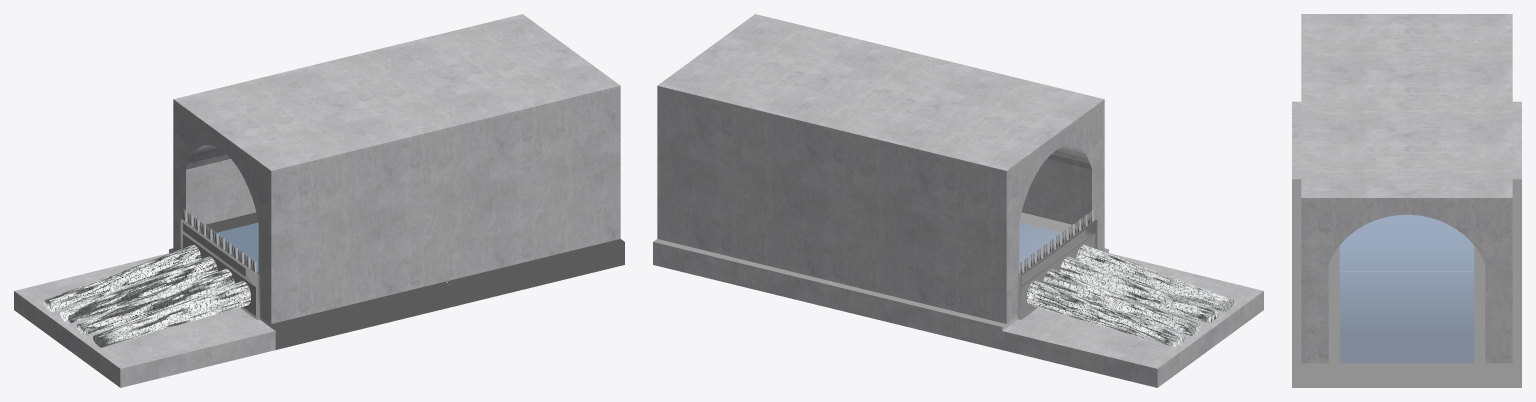
The model's file is malla_captacio.glb.
3 renders of one model, left to right at view 1: azimuth 30°, elevation 25°; view 2: azimuth 150°, elevation 25°; view 3: azimuth 270°, elevation 25°, orthographic. The views are drawn at different scales.
Visible parts, largest first — view 1: T_nel_formig____T_nel_formig__1108559__3D_1, Reixa___Reixa_1110386__3D_1, Llosa___Llosa_1116679__3D_1, Llosa_t_nel___Llosa_t_nel_1108943__3D_1, Aigua___Aigua_1112827__3D_1; view 2: T_nel_formig____T_nel_formig__1108559__3D_1, Reixa___Reixa_1110386__3D_1, Llosa___Llosa_1116679__3D_1, Llosa_t_nel___Llosa_t_nel_1108943__3D_1, Aigua___Aigua_1112827__3D_1; view 3: T_nel_formig____T_nel_formig__1108559__3D_1, Llosa_t_nel___Llosa_t_nel_1108943__3D_1, Aigua___Aigua_1112827__3D_1, Llosa___Llosa_1116679__3D_1.
Part boxes in pixels (x1=…): T_nel_formig____T_nel_formig__1108559__3D_1: x1=173, y1=14, x2=620, y2=323; Reixa___Reixa_1110386__3D_1: x1=44, y1=209, x2=260, y2=347; Llosa___Llosa_1116679__3D_1: x1=14, y1=253, x2=275, y2=387; Llosa_t_nel___Llosa_t_nel_1108943__3D_1: x1=169, y1=212, x2=624, y2=349; Aigua___Aigua_1112827__3D_1: x1=208, y1=222, x2=258, y2=305; T_nel_formig____T_nel_formig__1108559__3D_1: x1=657, y1=14, x2=1104, y2=323; Reixa___Reixa_1110386__3D_1: x1=1017, y1=210, x2=1233, y2=347; Llosa___Llosa_1116679__3D_1: x1=1002, y1=253, x2=1263, y2=387; Llosa_t_nel___Llosa_t_nel_1108943__3D_1: x1=653, y1=212, x2=1108, y2=349; Aigua___Aigua_1112827__3D_1: x1=1019, y1=222, x2=1070, y2=272; T_nel_formig____T_nel_formig__1108559__3D_1: x1=1301, y1=14, x2=1512, y2=363; Llosa_t_nel___Llosa_t_nel_1108943__3D_1: x1=1292, y1=179, x2=1521, y2=387; Aigua___Aigua_1112827__3D_1: x1=1339, y1=214, x2=1474, y2=363; Llosa___Llosa_1116679__3D_1: x1=1292, y1=101, x2=1521, y2=179.
Size of the model in its own units: 6.9 by 2.3 by 2.52.
10 materials, 5 textured.
